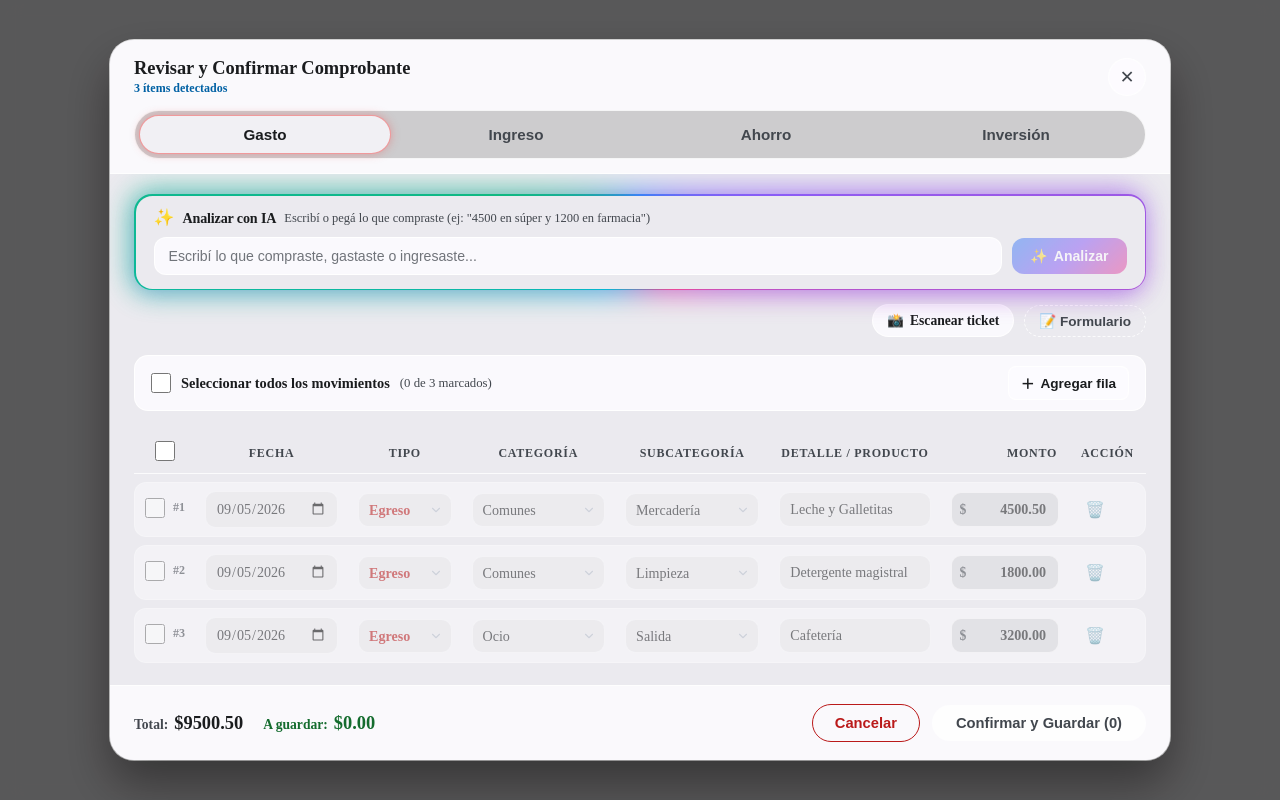
it: ValidationModal - List Review System for Invoices and Tickets › toggles individual item checkboxes and updates Total a Guardar
Check: the checkbox named "Seleccionar ítem 2" is not checked, box [145,560,165,580]
# Check Item 1 ($4500.50)
Click the checkbox named "Seleccionar ítem 1".
click(155, 508)  # box [145,498,165,518]
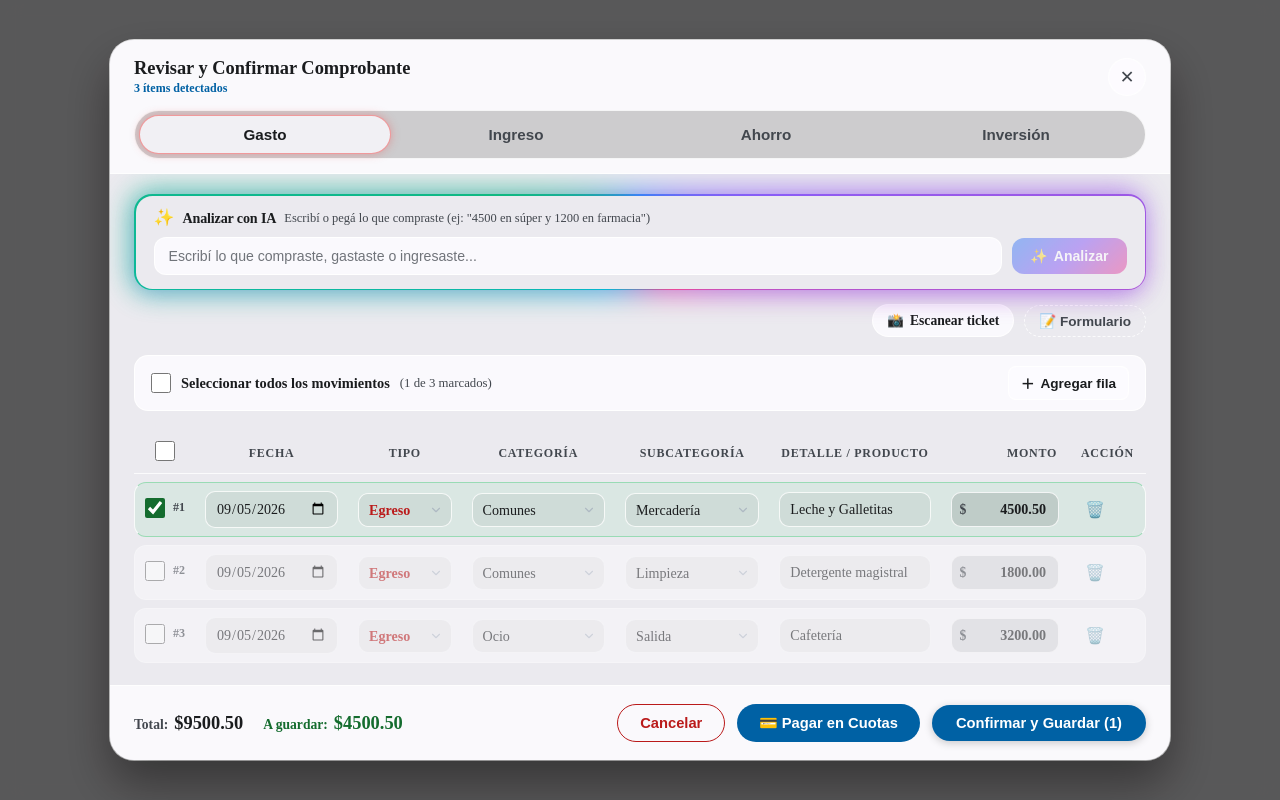
Check: the checkbox named "Seleccionar ítem 1" is checked, box [145,498,165,518]
Check: the text "$4500.50" is shown, box [334,712,403,734]
Check: the text "(1 de 3 marcados)" is shown, box [400,376,492,390]
Click the checkbox named "Seleccionar ítem 2".
click(155, 570)  # box [145,560,165,580]
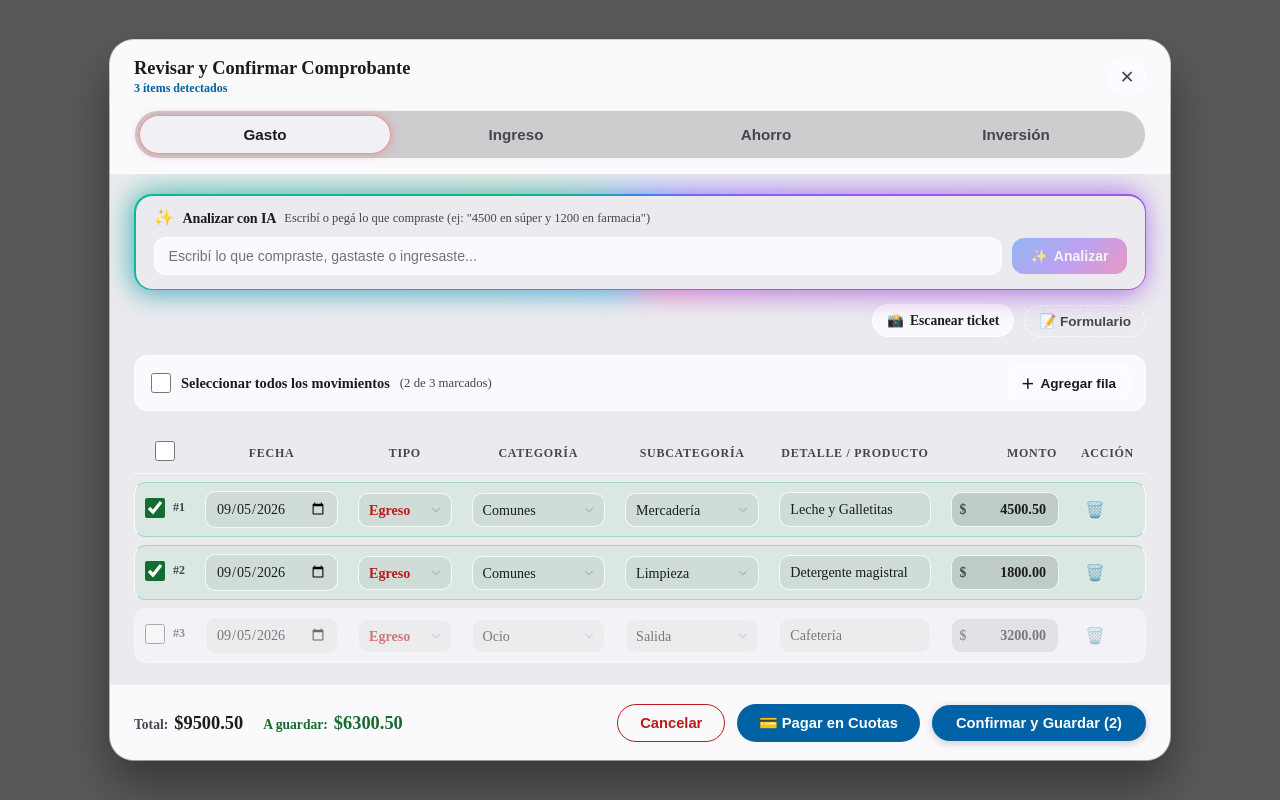
Check: the checkbox named "Seleccionar ítem 2" is checked, box [145,560,165,580]
Check: the text "$6300.50" is shown, box [334,712,403,734]
Check: the text "(2 de 3 marcados)" is shown, box [400,376,492,390]
Click the checkbox named "Seleccionar ítem 1".
click(155, 508)  # box [145,498,165,518]
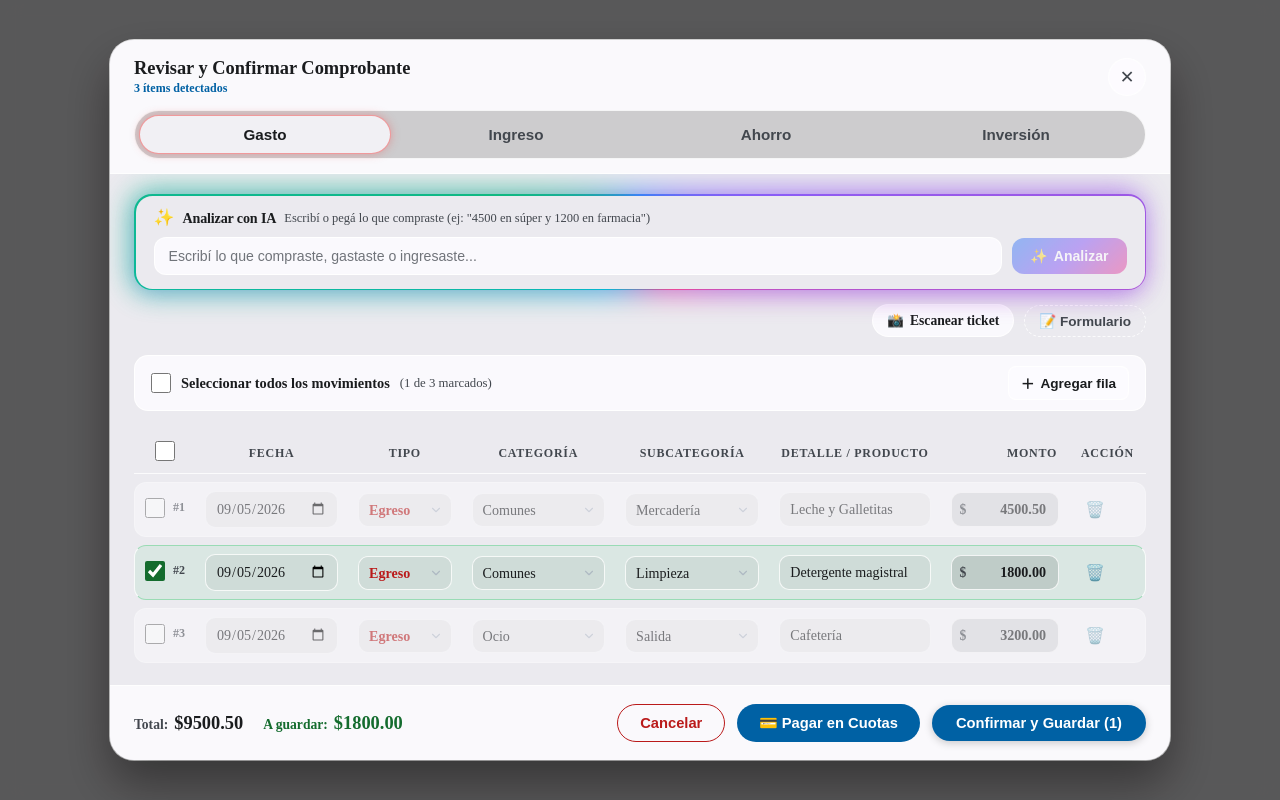
Check: the checkbox named "Seleccionar ítem 1" is not checked, box [145,498,165,518]
Check: the text "$1800.00" is shown, box [334,712,403,734]
Check: the text "(1 de 3 marcados)" is shown, box [400,376,492,390]
